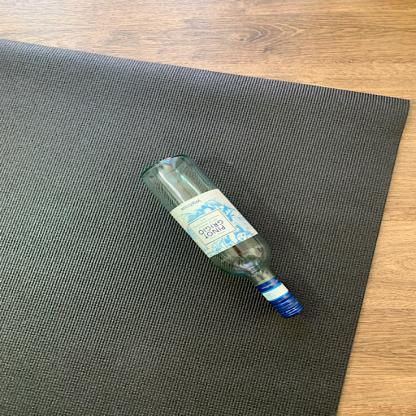trash: (135, 152, 306, 320)
